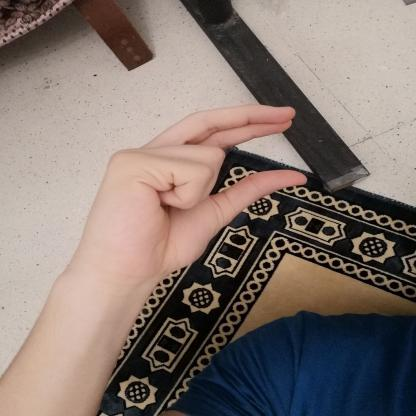DHELL: (66, 94, 321, 290)
